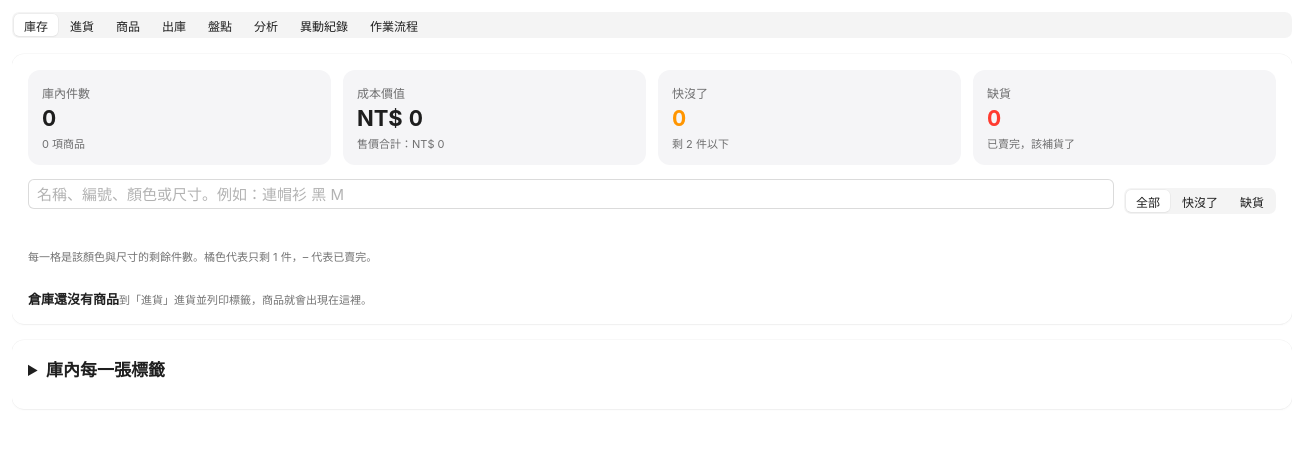
WarehousePage realtime relay › a code a phone sends reaches the open scan-out screen on the computer
The image size is (1292, 459).
Click the button "出庫": (174, 25) [152, 14, 196, 36]
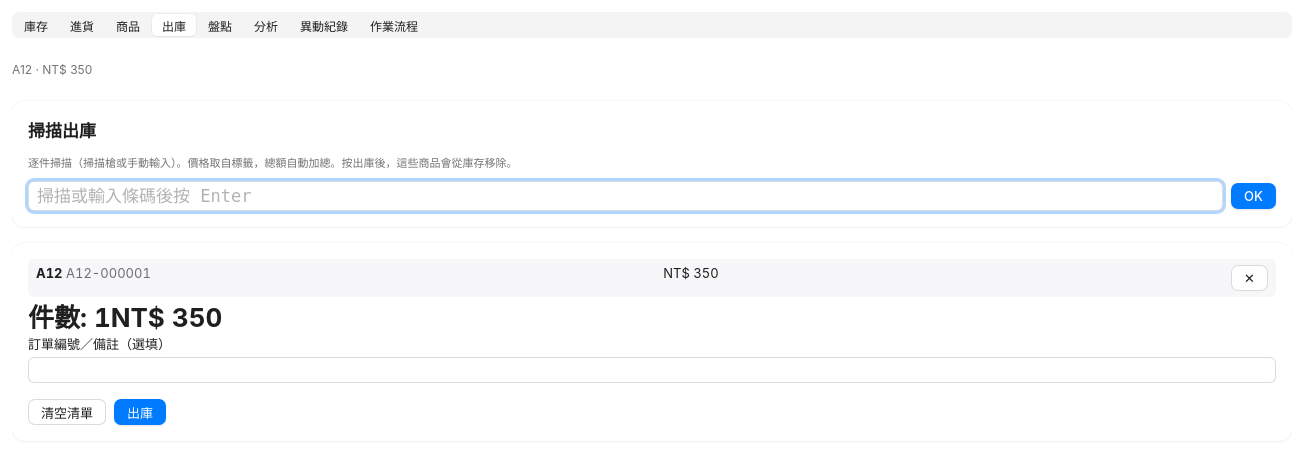
Expected: the text "A12 · NT$ 350" is shown, [12, 62, 92, 77]
